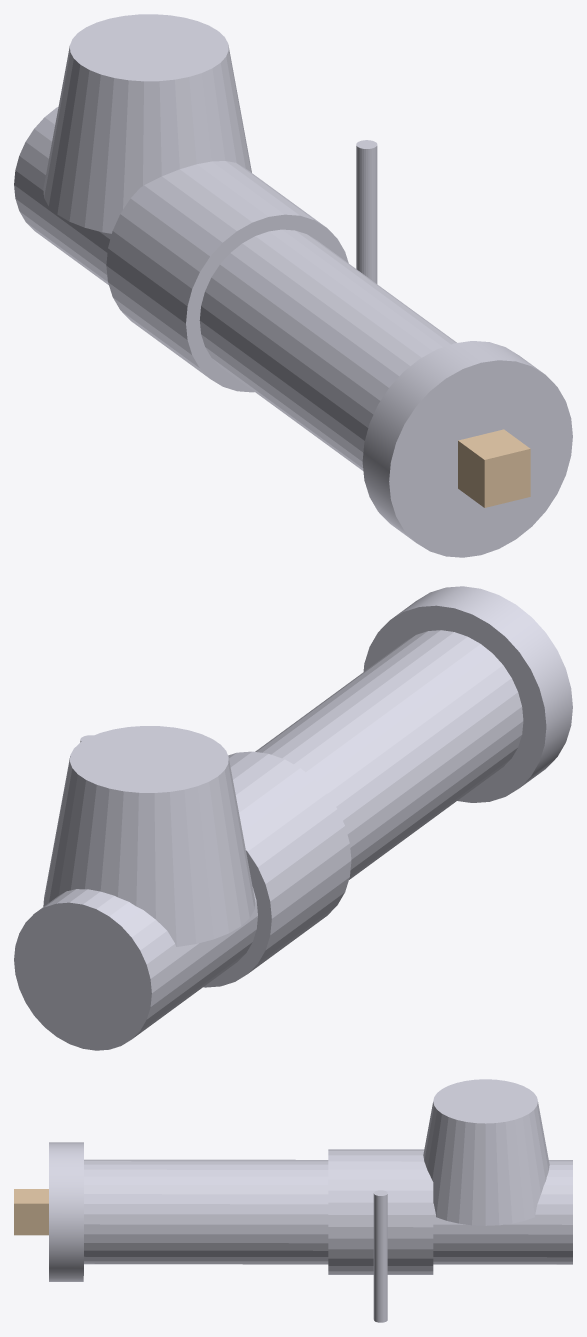
File: pipe.fbx
The picture shows the model from 3 angles, top to bottom: view 1: azimuth 30°, elevation 25°; view 2: azimuth 150°, elevation 25°; view 3: azimuth 270°, elevation 25°; orthographic projection. The views are drawn at different scales.
Visible parts, largest first — view 1: Outlet_Pipe, Outlet_Funnel, Outlet_Valve, Outlet_Flange, Material_Flow, Valve_Handle; view 2: Outlet_Pipe, Outlet_Funnel, Outlet_Valve, Outlet_Flange; view 3: Outlet_Pipe, Outlet_Funnel, Outlet_Valve, Outlet_Flange, Valve_Handle, Material_Flow.
Part boxes in pixels (x1=…): Outlet_Pipe: x1=14, y1=106, x2=549, y2=532; Outlet_Funnel: x1=43, y1=14, x2=251, y2=233; Outlet_Valve: x1=106, y1=161, x2=348, y2=392; Outlet_Flange: x1=362, y1=341, x2=572, y2=557; Material_Flow: x1=458, y1=429, x2=530, y2=507; Valve_Handle: x1=356, y1=140, x2=377, y2=283; Outlet_Pipe: x1=14, y1=630, x2=523, y2=1050; Outlet_Funnel: x1=43, y1=726, x2=255, y2=946; Outlet_Valve: x1=203, y1=751, x2=351, y2=987; Outlet_Flange: x1=363, y1=586, x2=572, y2=802; Outlet_Pipe: x1=84, y1=1159, x2=572, y2=1264; Outlet_Funnel: x1=423, y1=1079, x2=549, y2=1225; Outlet_Valve: x1=328, y1=1149, x2=433, y2=1274; Outlet_Flange: x1=49, y1=1142, x2=83, y2=1281; Valve_Handle: x1=373, y1=1190, x2=387, y2=1322; Material_Flow: x1=14, y1=1189, x2=48, y2=1235.
Size of the model in its own units: 0.52 by 0.55 by 1.6.
